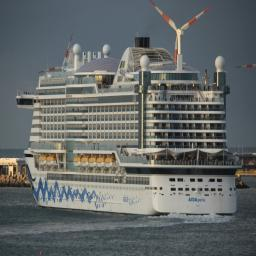cruises: (14, 37, 241, 224)
